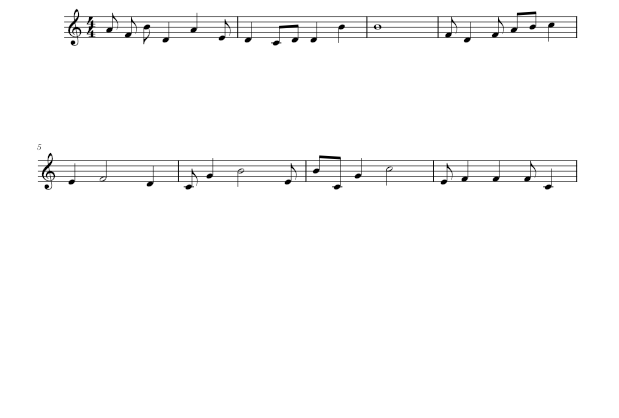Treble Clef: (37, 151, 58, 194), (65, 4, 84, 50)
